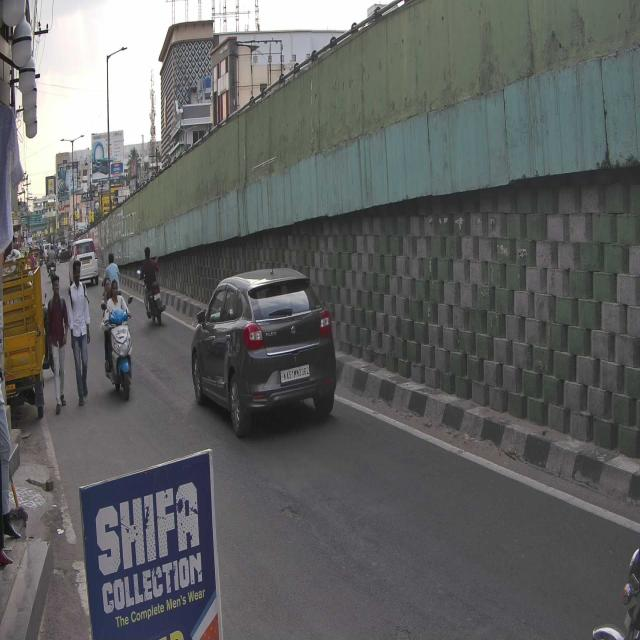double_rider: (100, 275, 135, 404)
